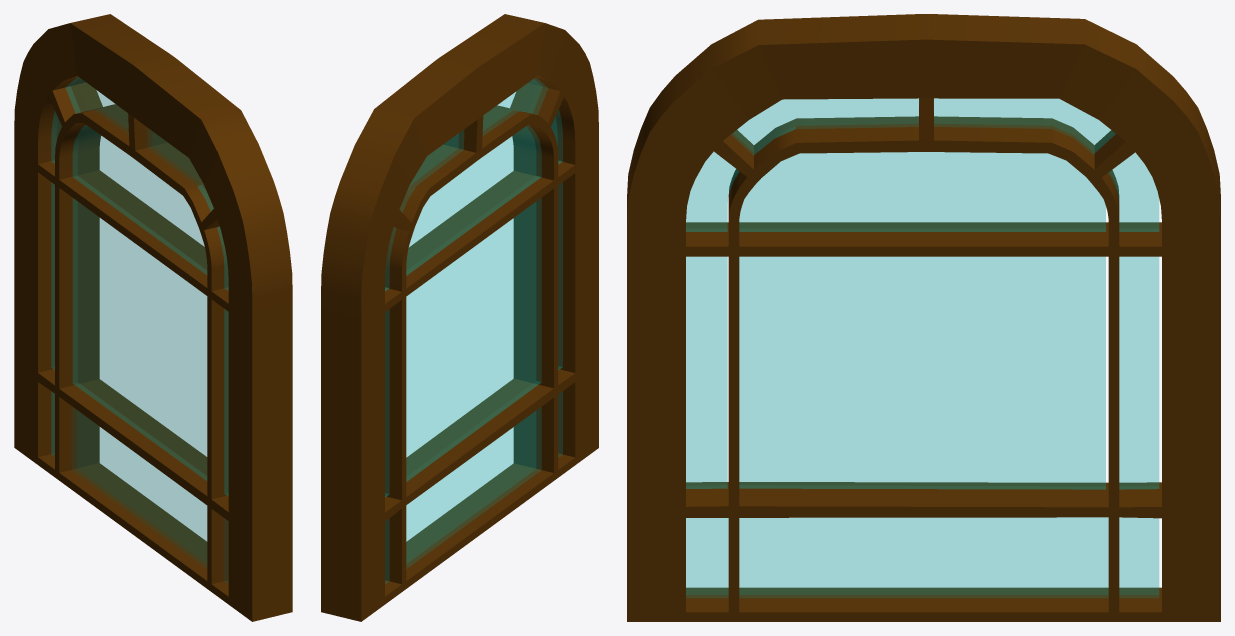
Rendered from Arco grande.fbx.
3 renders of one model, left to right at view 1: azimuth 30°, elevation 25°; view 2: azimuth 150°, elevation 25°; view 3: azimuth 270°, elevation 25°, orthographic. The views are drawn at different scales.
Visible parts, largest first — view 1: Pared_con_Arco_grande; view 2: Pared_con_Arco_grande; view 3: Pared_con_Arco_grande.
Part boxes in pixels (x1,y1,x2,y2): Pared_con_Arco_grande: (14, 14, 292, 621); Pared_con_Arco_grande: (321, 14, 598, 621); Pared_con_Arco_grande: (627, 14, 1220, 621).
Bounding box in the file's own units: 0.3584 × 3.74 × 3.44.
